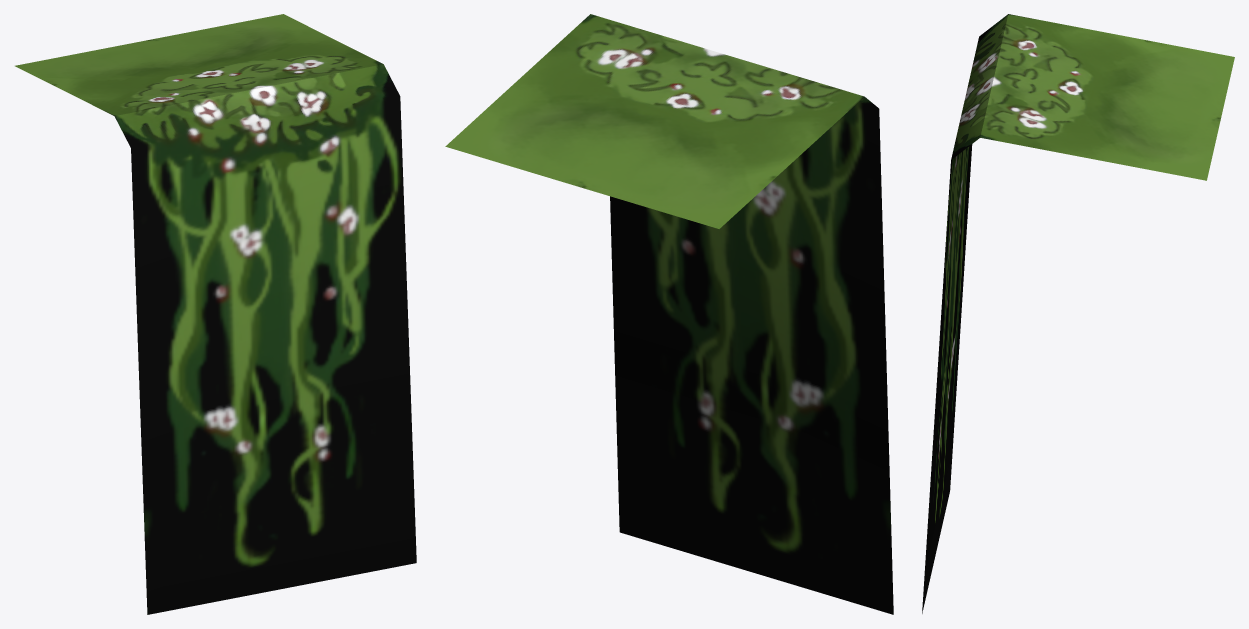
Rendered from bush3.fbx.
3 views of the same model, side by side, from view 1: azimuth 30°, elevation 25°; view 2: azimuth 150°, elevation 25°; view 3: azimuth 270°, elevation 25° (orthographic). The views are drawn at different scales.
Visible parts, largest first — view 1: Plane.004; view 2: Plane.004; view 3: Plane.004.
Part boxes in pixels (bbox=[...]): Plane.004: bbox=[15, 14, 416, 614]; Plane.004: bbox=[445, 14, 893, 614]; Plane.004: bbox=[922, 14, 1234, 613].
Size of the model in its own units: 69.16 by 118 by 70.11.
